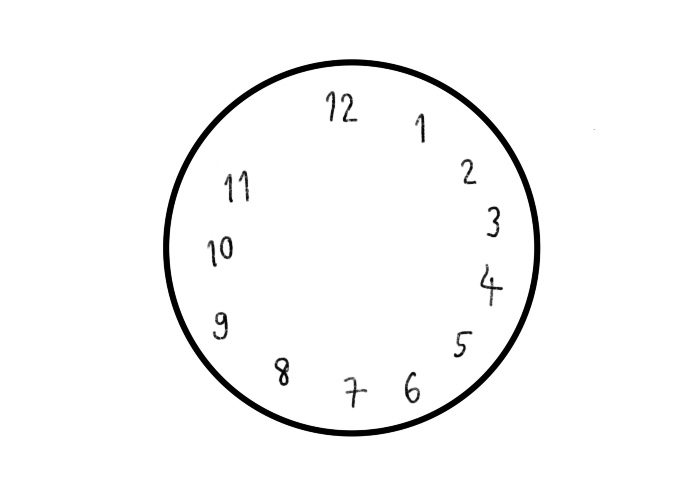eight: (272, 356, 296, 387)
eleven: (222, 168, 253, 206)
five: (450, 329, 475, 361)
four: (476, 265, 504, 307)
nine: (209, 310, 229, 343)
one: (415, 113, 429, 143)
seven: (342, 373, 369, 410)
six: (404, 368, 421, 404)
ten: (202, 233, 236, 268)
three: (483, 202, 502, 243)
twelve: (322, 84, 359, 124)
two: (459, 154, 479, 191)
